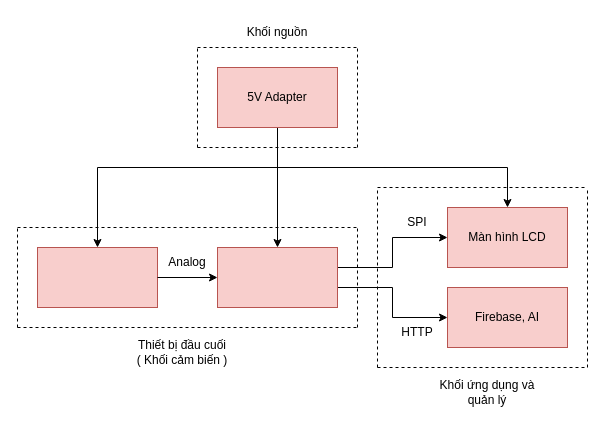
This 606x424 diagram has some shape labels left out. The shapes that lost their labels are listed below. From the top down, each one's centre as x and y in pixels, then its label:
At (x=97, y=277): "Cảm biến đo NH3 CO Bụi mịn PM2.5 Nhiệt độ và độ ẩm".
At (x=277, y=277): "ESP32".
